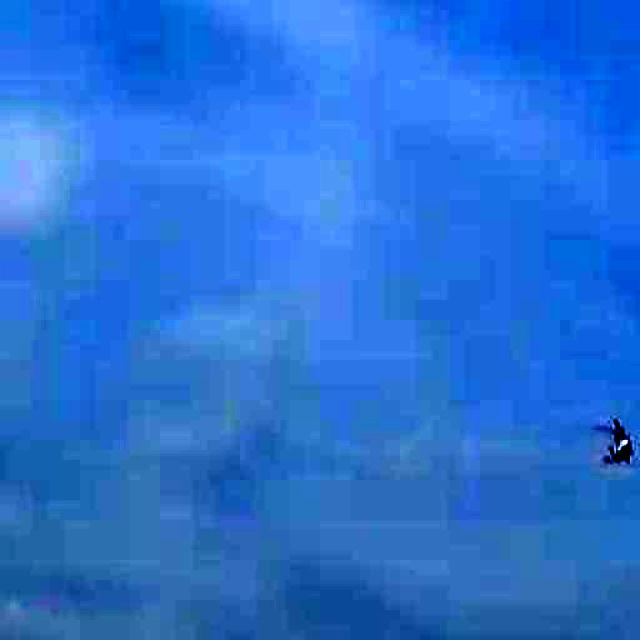drone: (580, 405, 640, 479)
